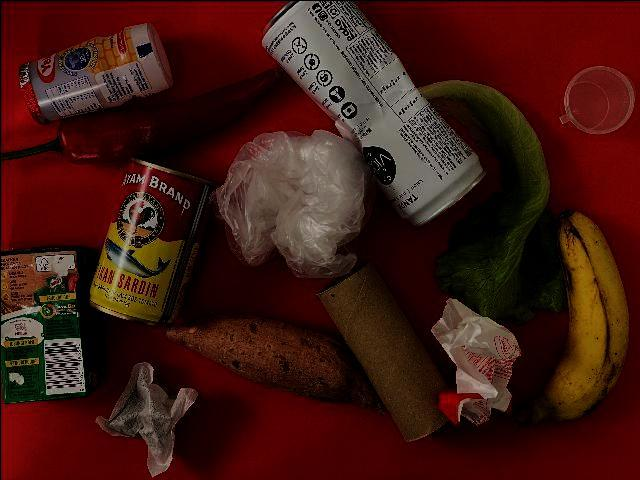banana: (510, 206, 630, 430)
chilli: (1, 65, 286, 165)
drinkcan: (260, 0, 488, 230)
drinkpack: (0, 243, 100, 405)
foodcan: (85, 153, 218, 329)
lettuce: (414, 77, 572, 331)
paperbag: (428, 295, 522, 427)
plasticbottle: (17, 19, 174, 126)
plasticcontainer: (556, 64, 636, 136)
sweetpotato: (162, 312, 386, 416)
teabag: (94, 359, 198, 477)
tissueroll: (316, 258, 456, 442)
